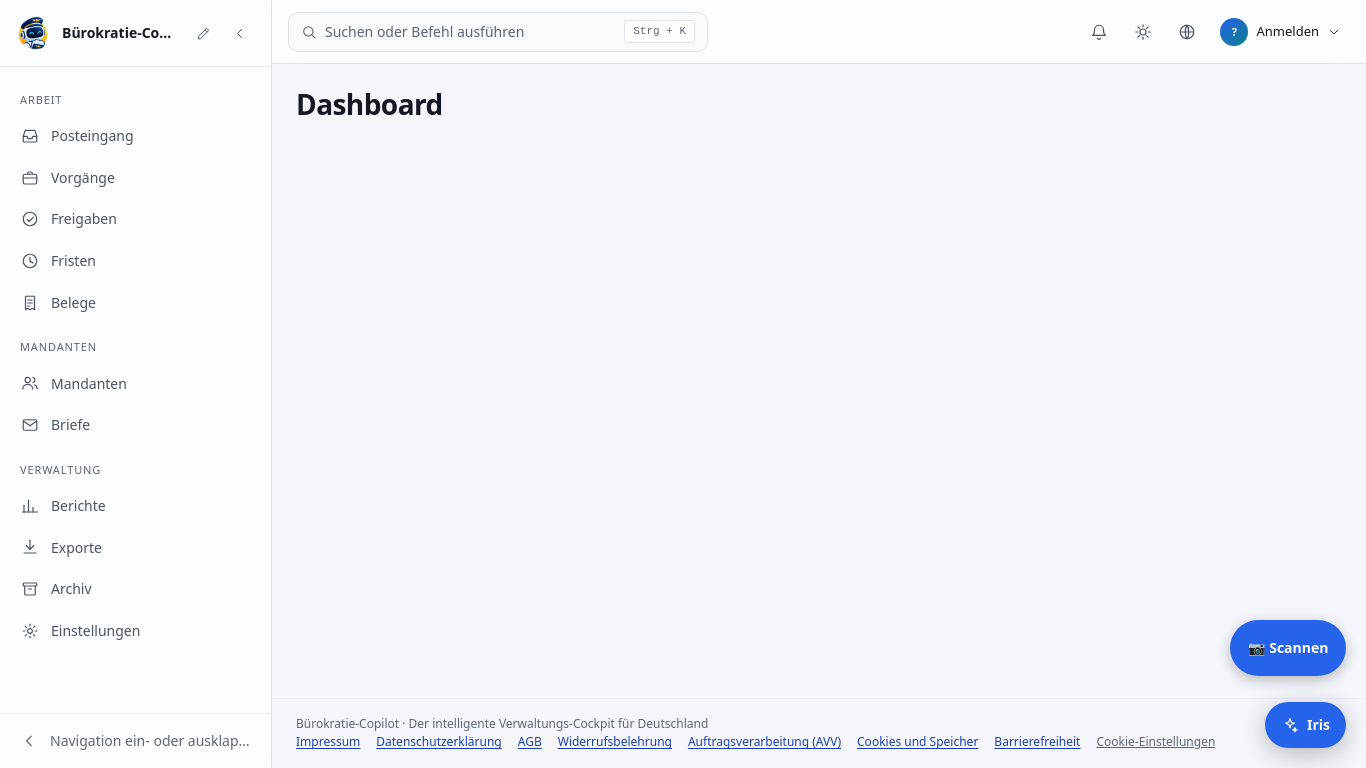
Test: AppShell › offers the command palette through the topbar search button
Click the button "Suchen oder Befehl ausführen Strg + K". click: [498, 32]
box: x1=288 y1=12 x2=708 y2=52
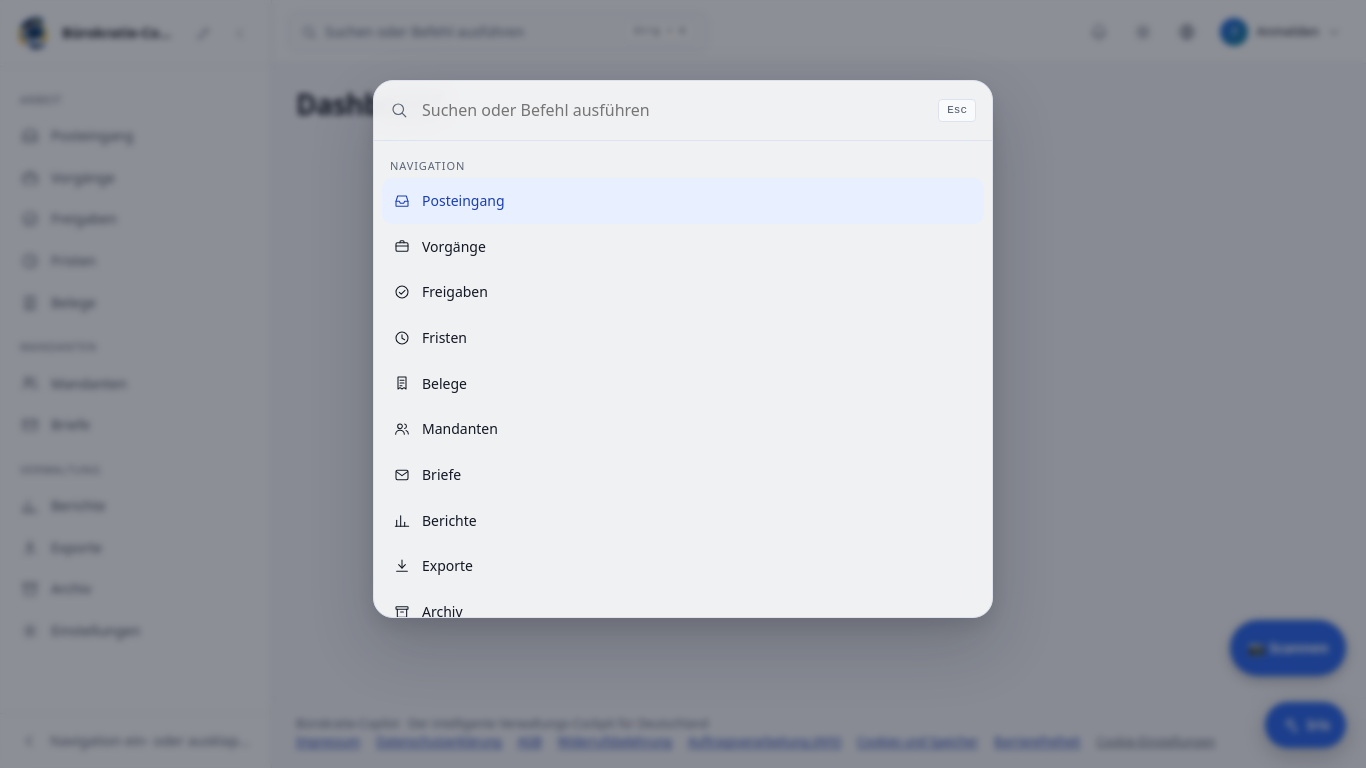
Result: the dropdown is shown at x1=420 y1=97 x2=926 y2=124
